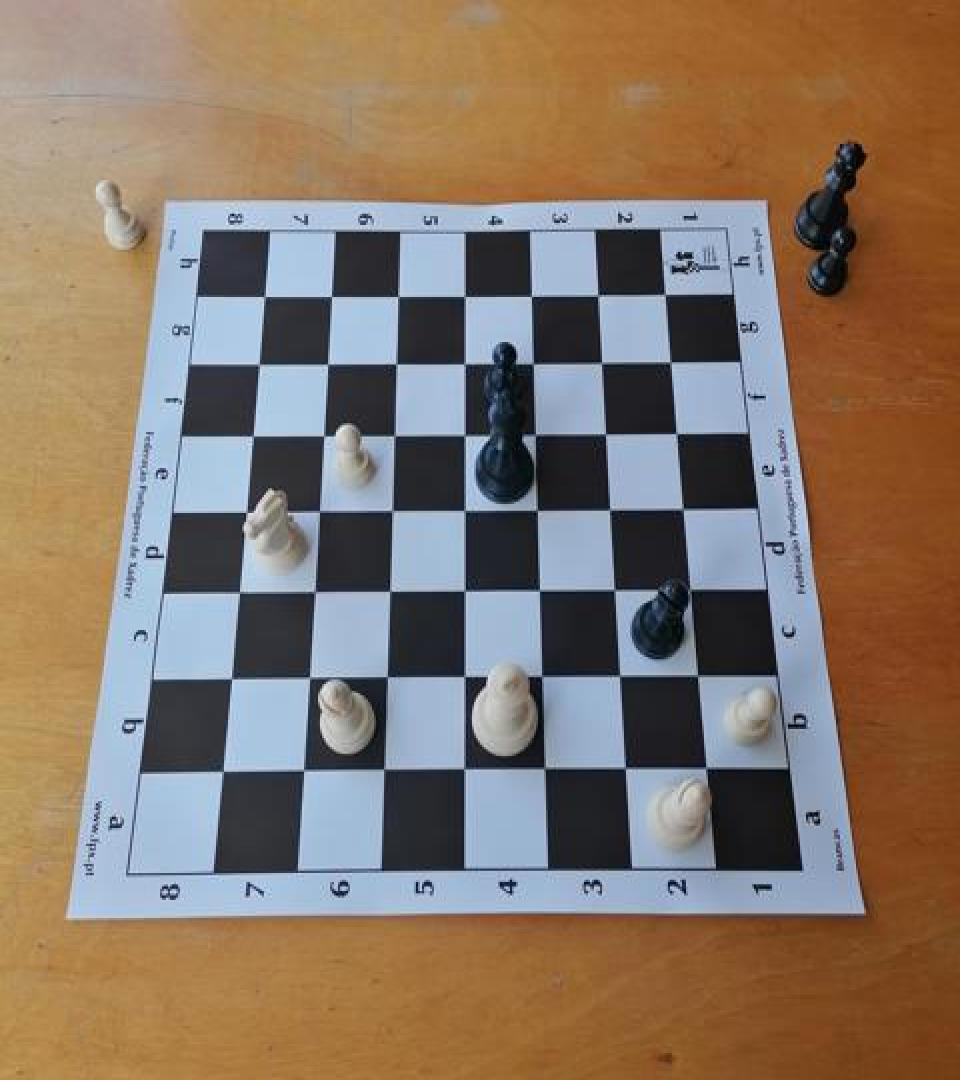xcorner: (211, 758, 239, 790), (293, 756, 321, 788), (616, 750, 644, 782), (696, 749, 724, 781), (376, 661, 404, 693), (454, 660, 482, 692), (532, 659, 560, 691), (610, 658, 638, 690), (688, 657, 716, 689), (226, 576, 254, 608), (302, 576, 330, 608), (605, 571, 633, 603), (680, 570, 708, 602), (600, 490, 628, 522), (673, 489, 701, 521), (239, 417, 267, 449), (310, 416, 338, 448), (382, 415, 410, 447), (453, 415, 481, 447), (524, 414, 552, 446), (595, 414, 623, 446), (244, 344, 272, 376), (314, 343, 342, 375), (384, 343, 412, 375), (453, 343, 481, 375), (522, 342, 550, 374), (591, 342, 619, 374), (318, 274, 346, 306), (385, 274, 413, 306), (453, 274, 481, 306), (520, 273, 548, 305), (587, 273, 615, 305), (653, 273, 681, 305), (374, 755, 402, 786), (455, 754, 483, 785), (535, 753, 563, 784), (219, 664, 247, 695), (297, 663, 325, 694), (378, 575, 406, 606), (454, 574, 482, 605), (530, 573, 558, 604), (232, 494, 260, 525), (306, 494, 334, 525), (380, 493, 408, 524), (454, 492, 482, 523), (527, 492, 555, 523), (666, 413, 694, 444), (659, 341, 687, 372), (250, 276, 278, 307)
